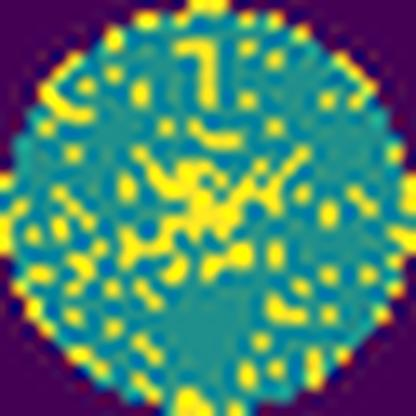Center: (117, 131, 309, 272)
